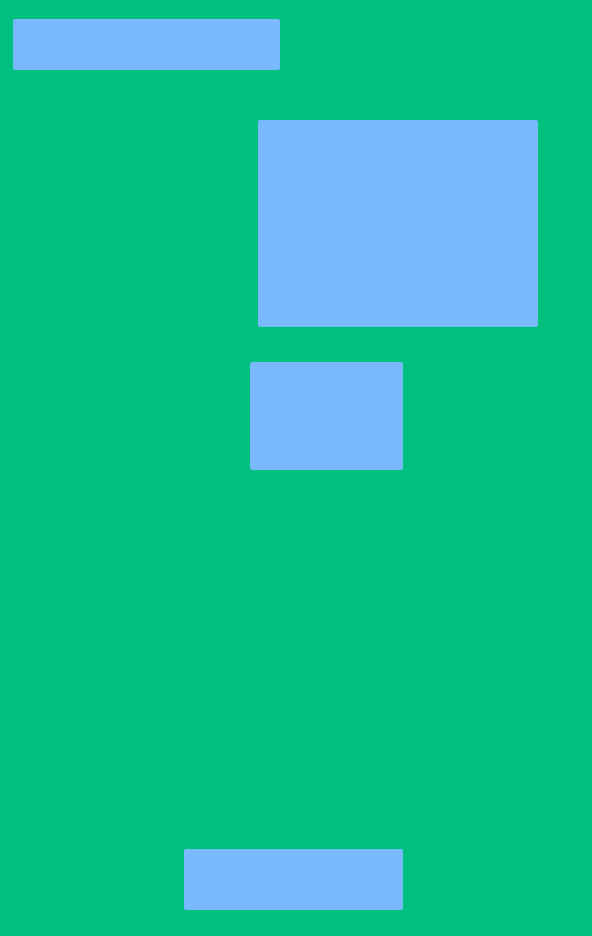Text_area: (259, 121, 536, 325), (251, 363, 401, 468), (14, 20, 278, 68), (185, 850, 401, 908)
